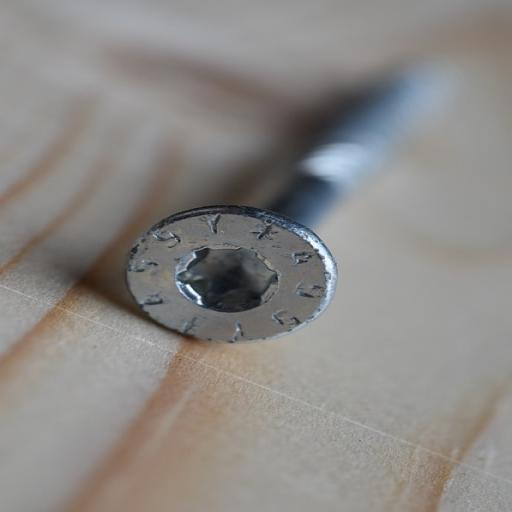Hex-Allen: (122, 207, 334, 343)
